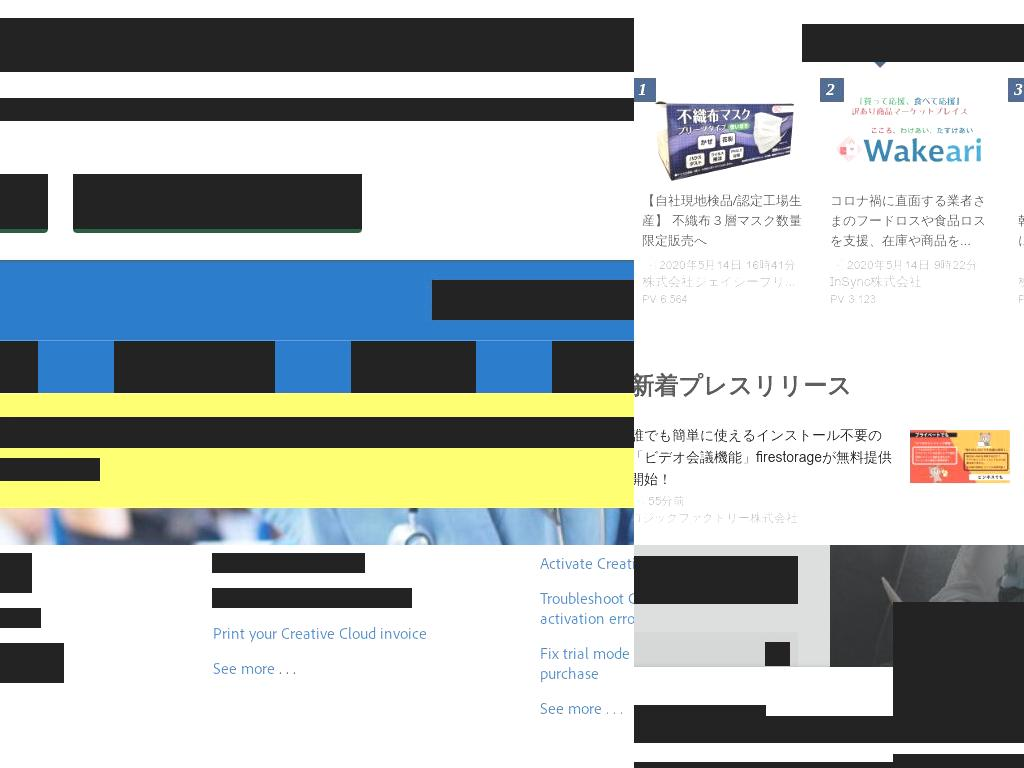button: (820, 78, 1001, 312), (634, 78, 813, 312), (634, 424, 1010, 526), (73, 174, 362, 229), (114, 341, 275, 393), (351, 341, 476, 393), (552, 341, 634, 393), (634, 509, 798, 527), (0, 341, 38, 393)
field: (432, 280, 634, 320), (634, 556, 798, 604), (634, 632, 798, 680)
heading: (0, 417, 634, 448), (634, 424, 895, 490), (893, 602, 1024, 730), (634, 372, 1024, 399), (634, 716, 1024, 743)
image: (634, 545, 1024, 768), (820, 78, 1001, 199), (634, 78, 813, 199), (910, 424, 1010, 491), (802, 24, 958, 62), (765, 642, 790, 666)
link: (642, 191, 803, 256), (830, 191, 991, 256), (392, 98, 634, 121), (212, 623, 427, 643), (212, 588, 412, 608), (634, 493, 895, 508), (539, 588, 634, 628), (539, 643, 634, 683), (642, 271, 811, 292), (212, 553, 365, 573), (0, 643, 64, 683), (642, 258, 803, 273), (830, 258, 991, 273), (0, 458, 100, 481), (642, 275, 803, 289), (830, 275, 991, 289), (642, 293, 803, 305), (830, 293, 991, 305), (830, 271, 922, 292), (539, 553, 634, 573), (539, 698, 623, 718), (0, 553, 32, 593), (212, 658, 275, 678), (0, 608, 41, 628)
text: (0, 18, 634, 72), (0, 98, 392, 121), (802, 24, 958, 62), (634, 508, 895, 526), (130, 357, 259, 377), (958, 24, 1024, 62), (642, 257, 803, 272), (830, 257, 991, 272), (634, 705, 766, 722), (642, 293, 803, 305), (830, 293, 991, 305), (367, 357, 460, 377), (568, 357, 634, 377), (820, 78, 844, 102), (634, 78, 656, 102), (274, 658, 300, 678), (0, 357, 22, 377), (1008, 78, 1024, 102)
